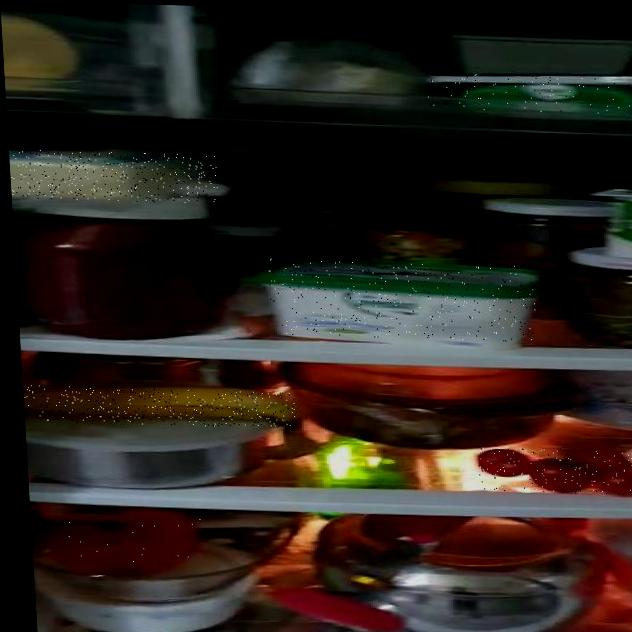banana: (24, 385, 300, 429)
cheese: (268, 259, 539, 342), (10, 148, 219, 204)
cream cheese: (425, 72, 632, 115)
tomato: (59, 511, 205, 571), (478, 447, 632, 495)
